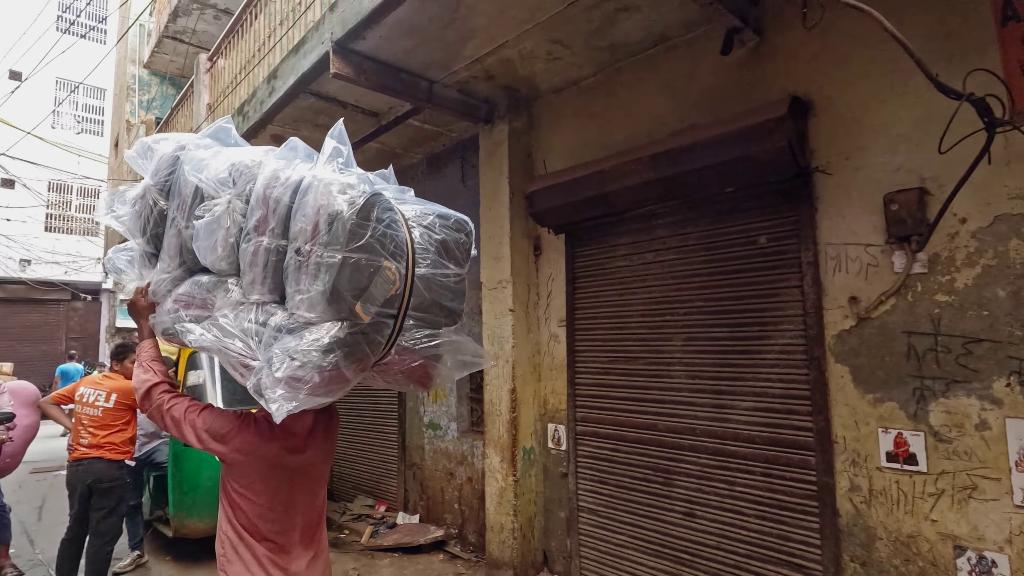dustbin: (394, 511, 420, 526), (370, 500, 389, 520)
